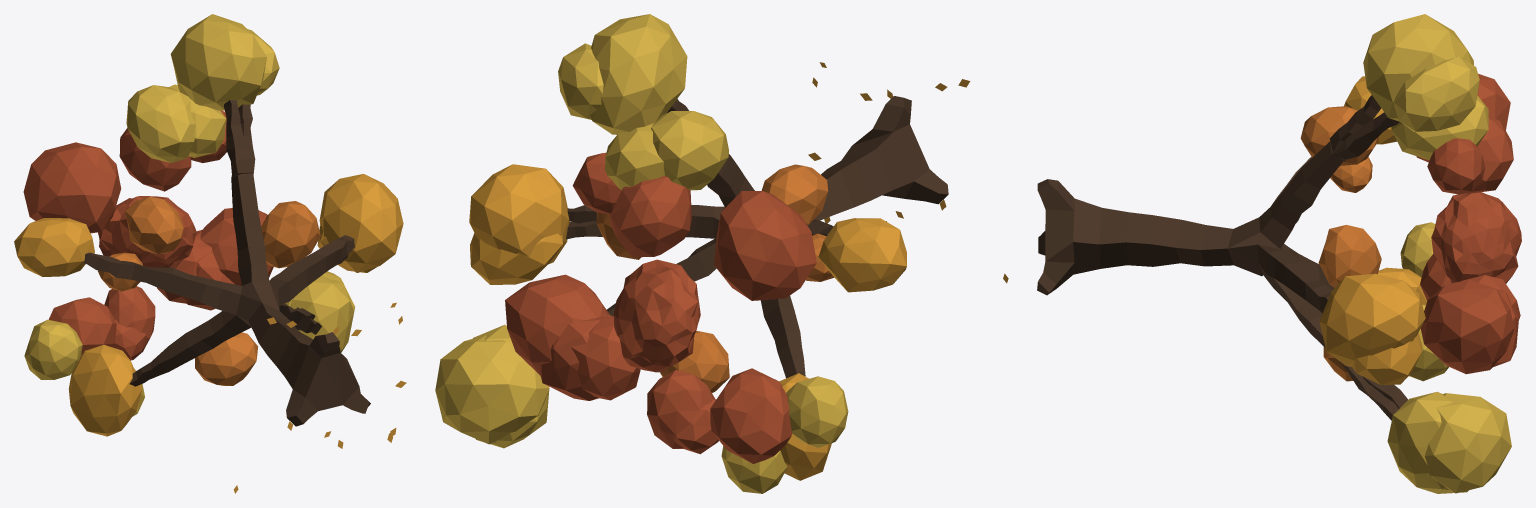
The model's file is TreeOakAutumnD3.fbx.
3 views of the same model, side by side, from view 1: azimuth 30°, elevation 25°; view 2: azimuth 150°, elevation 25°; view 3: azimuth 270°, elevation 25° (orthographic). The views are drawn at different scales.
Parts seen in each view (by area): view 1: M_Tree_Bark, M_Tree_Leaf_Rust, M_Tree_Leaf_Gold, M_Tree_Leaf_Amber, M_Tree_Leaf_Orange; view 2: M_Tree_Leaf_Rust, M_Tree_Leaf_Gold, M_Tree_Leaf_Amber, M_Tree_Bark, M_Tree_Leaf_Orange; view 3: M_Tree_Leaf_Gold, M_Tree_Bark, M_Tree_Leaf_Rust, M_Tree_Leaf_Amber, M_Tree_Leaf_Orange.
Boxes of the visible parts, x1,y1,x2,y2 form: M_Tree_Bark: (83, 100, 370, 426); M_Tree_Leaf_Rust: (23, 110, 273, 360); M_Tree_Leaf_Gold: (24, 14, 354, 416); M_Tree_Leaf_Amber: (14, 174, 406, 493); M_Tree_Leaf_Orange: (98, 196, 320, 385); M_Tree_Leaf_Rust: (505, 152, 816, 463); M_Tree_Leaf_Gold: (435, 14, 848, 493); M_Tree_Leaf_Amber: (469, 62, 1008, 480); M_Tree_Bark: (566, 96, 948, 378); M_Tree_Leaf_Orange: (596, 164, 833, 392); M_Tree_Leaf_Gold: (1363, 14, 1511, 493); M_Tree_Bark: (1037, 95, 1407, 420); M_Tree_Leaf_Rust: (1416, 73, 1521, 374); M_Tree_Leaf_Amber: (1319, 76, 1427, 385); M_Tree_Leaf_Orange: (1300, 106, 1381, 381).
Size of the model in its own units: 36.64 by 35.37 by 37.26.
